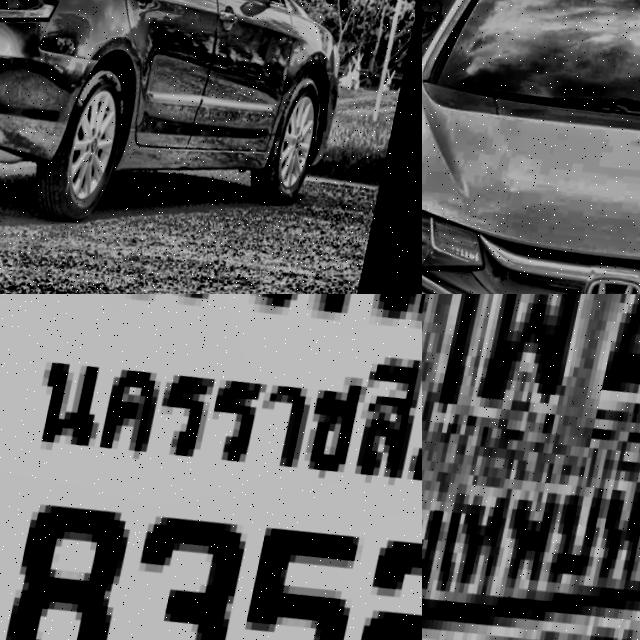license-plate: (0, 294, 422, 640), (422, 294, 640, 640)
